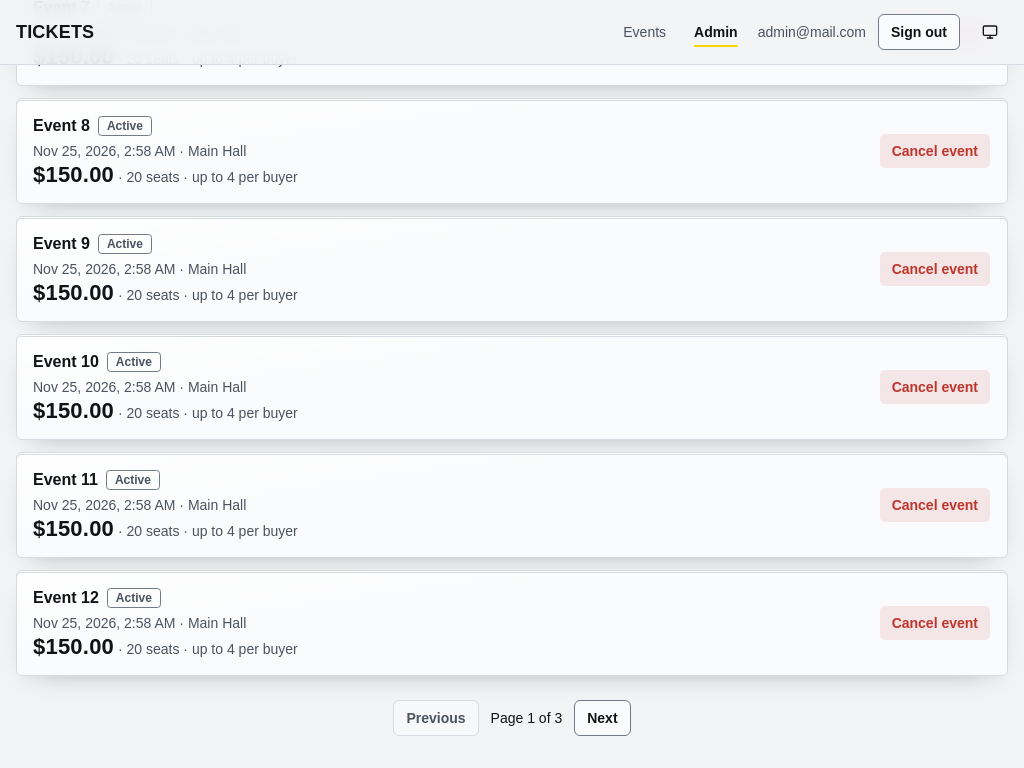
Test: AdminPage › paginates with the page in the URL
(page scrolled)
Expected: the text "Page 1 of 3" is shown, x1=491 y1=708 x2=562 y2=728
Click the button "Next": (602, 718) x1=574 y1=700 x2=631 y2=736
(page scrolled)
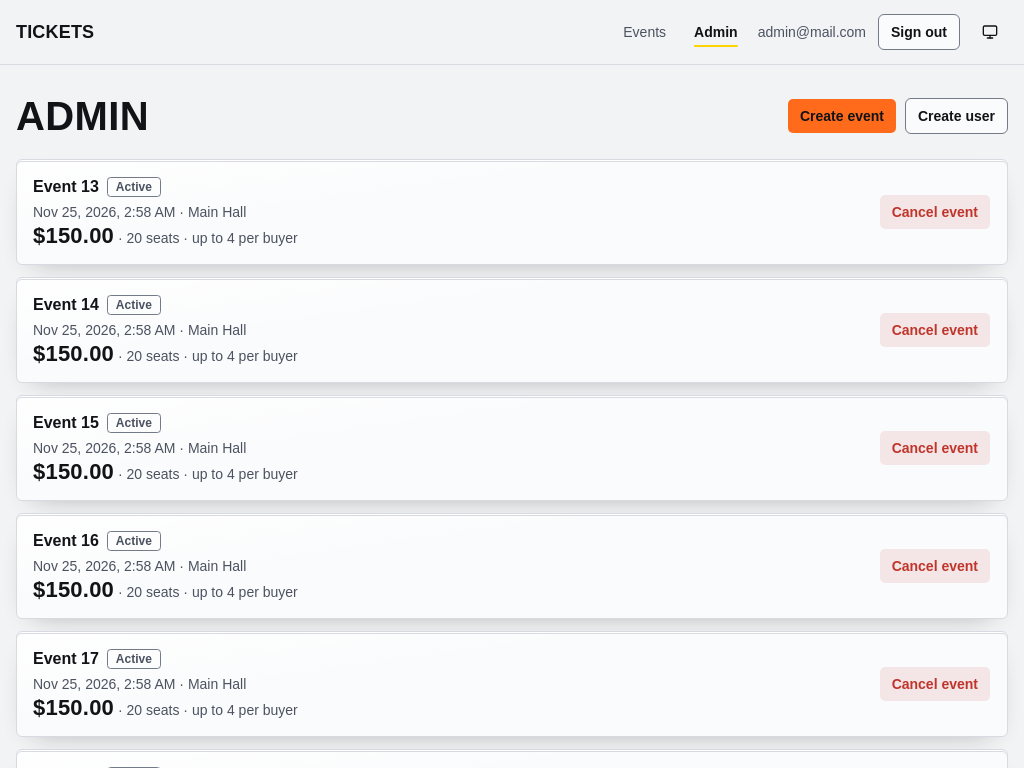
Expected: the link "Event 13" is shown, x1=33 y1=178 x2=99 y2=195
